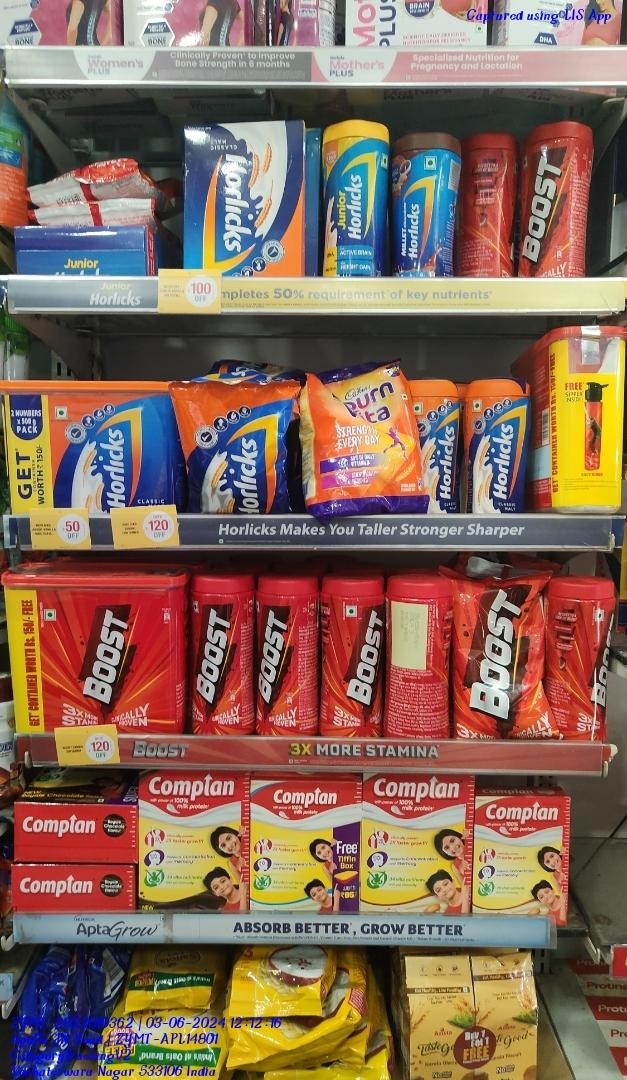COMPLAN_KESAR_BADAM_200_GMS_PACK: (365, 777, 470, 914), (476, 796, 566, 919)
HORLICK_MALT_1_KG_CONTAINER: (0, 378, 174, 512)
